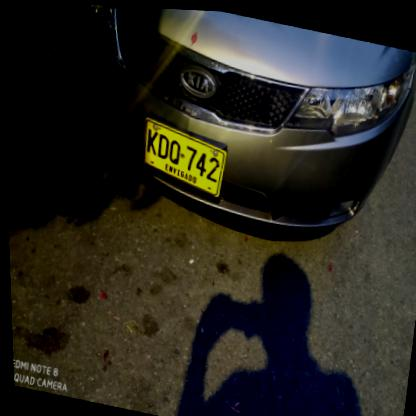placa: (129, 112, 232, 200)
